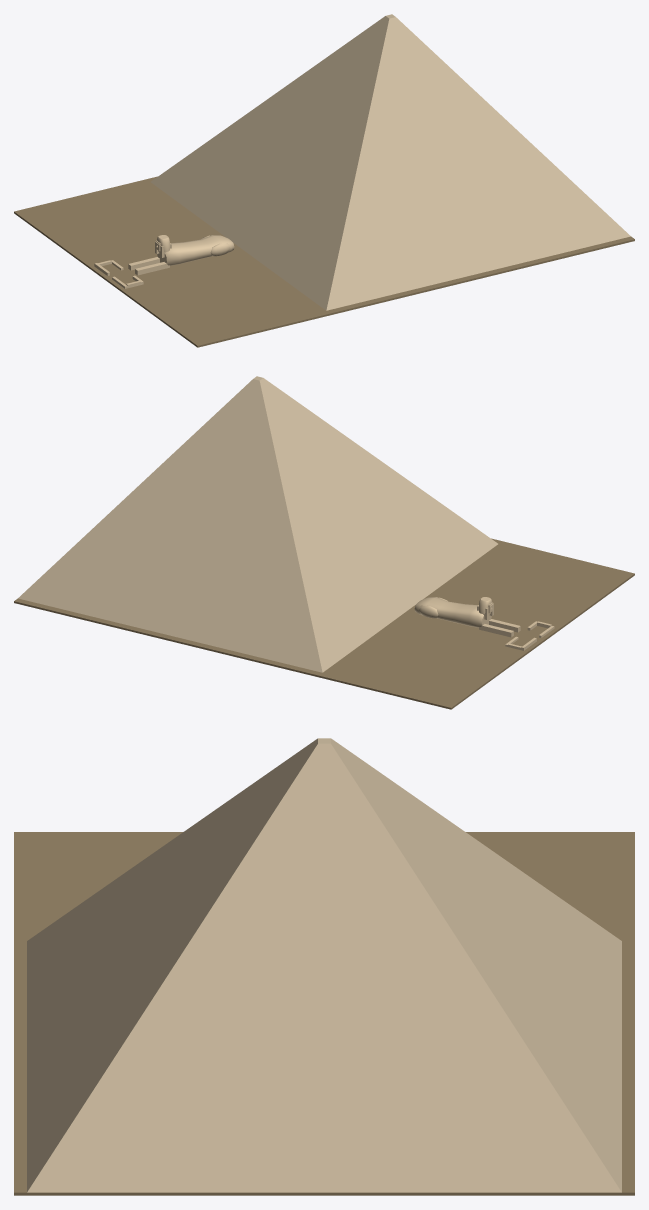
The model's file is top-prebuilt.fbx.
The picture shows the model from 3 angles, top to bottom: view 1: azimuth 30°, elevation 25°; view 2: azimuth 150°, elevation 25°; view 3: azimuth 270°, elevation 25°; orthographic projection. The views are drawn at different scales.
Parts seen in each view (by area): view 1: landmark-pyramid/0/top-prebuilt; view 2: landmark-pyramid/0/top-prebuilt; view 3: landmark-pyramid/0/top-prebuilt.
Boxes of the visible parts, <box> form: landmark-pyramid/0/top-prebuilt: <box>14,14,634,347</box>; landmark-pyramid/0/top-prebuilt: <box>14,376,634,709</box>; landmark-pyramid/0/top-prebuilt: <box>14,738,634,1195</box>.
Size of the model in its own units: 330 by 140 by 240.
